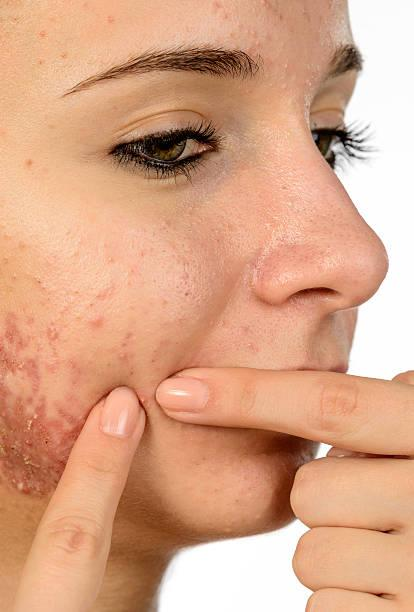Dry-Skin: (90, 45, 340, 177), (123, 195, 255, 333), (23, 18, 117, 207), (5, 298, 138, 393), (245, 0, 335, 132), (293, 170, 414, 258), (18, 390, 107, 507)
